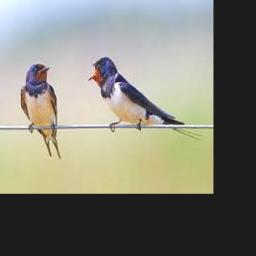Swallow: (86, 56, 203, 141), (21, 62, 60, 159)
